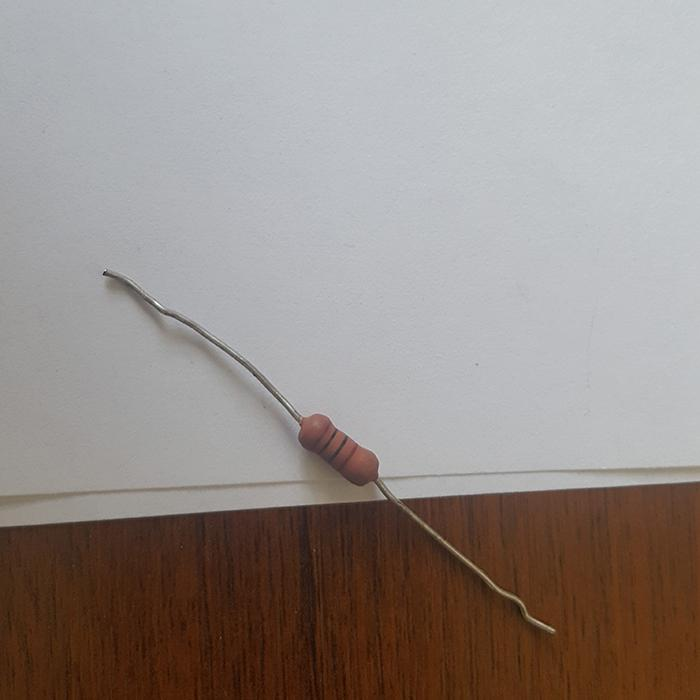resistor: (298, 412, 377, 484)
